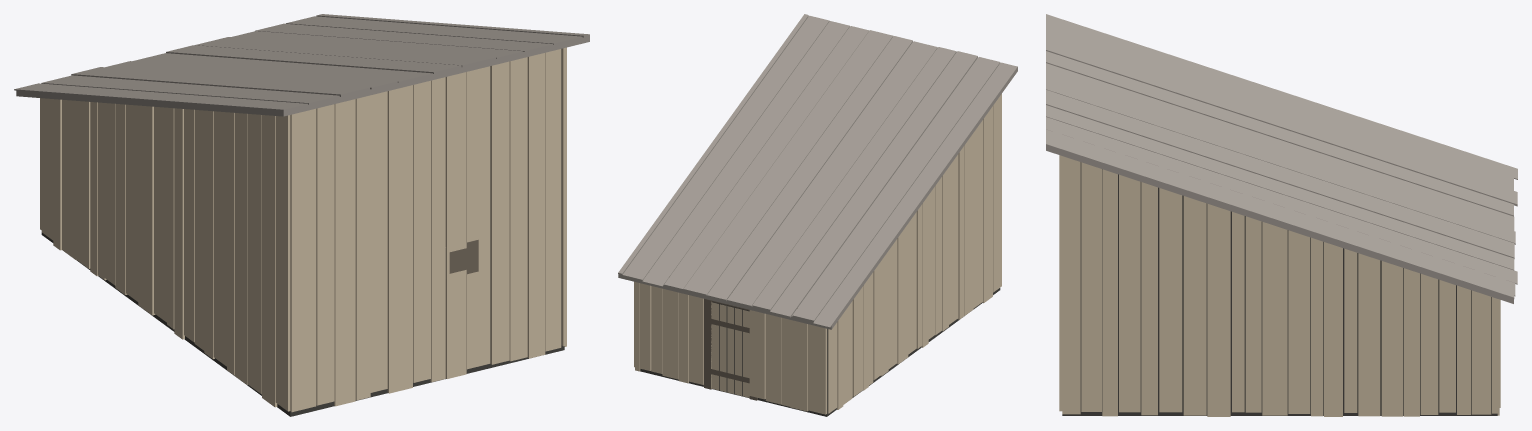
File: recon_1835_west_028__inferred_1835.glb
3 renders of one model, left to right at view 1: azimuth 30°, elevation 25°; view 2: azimuth 150°, elevation 25°; view 3: azimuth 270°, elevation 25°, orthographic. The views are drawn at different scales.
Visible parts, largest first — view 1: recon_1835_west_028__inferred_1835; view 2: recon_1835_west_028__inferred_1835; view 3: recon_1835_west_028__inferred_1835.
Boxes of the visible parts, x1,y1,x2,y2 form: recon_1835_west_028__inferred_1835: (14, 14, 589, 416); recon_1835_west_028__inferred_1835: (618, 14, 1017, 416); recon_1835_west_028__inferred_1835: (1046, 14, 1517, 416).
Bounding box in the file's own units: 4.76 × 4.74 × 7.26.
